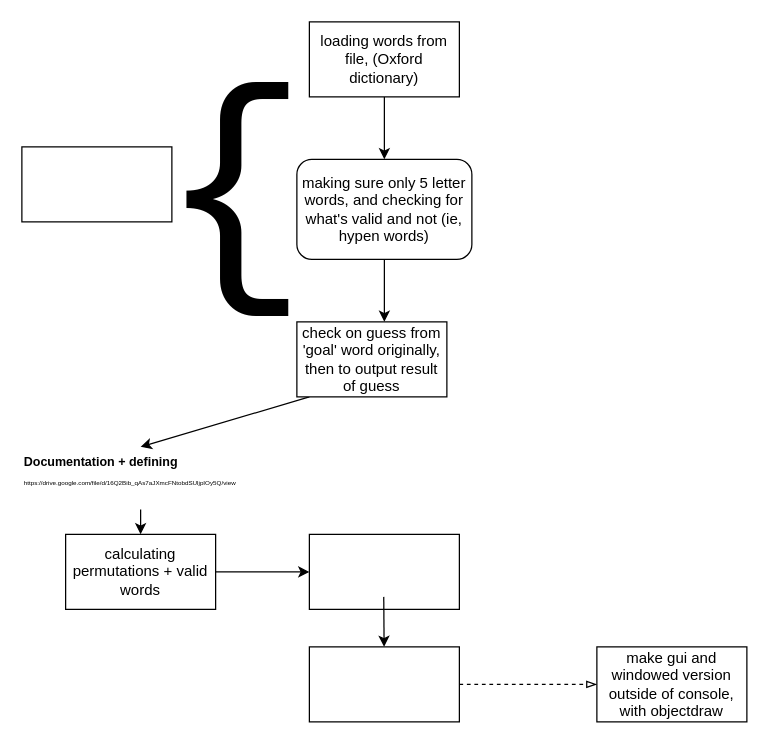
Image size: 769x744. Some labels were removed from this diagram. Each missing label, with the centre of its shape:
"base wordle game" goes at pixel 96 184.
"calculating best / one with most" goes at pixel 383 571.
"produce output, and make more game styled" goes at pixel 383 684.
